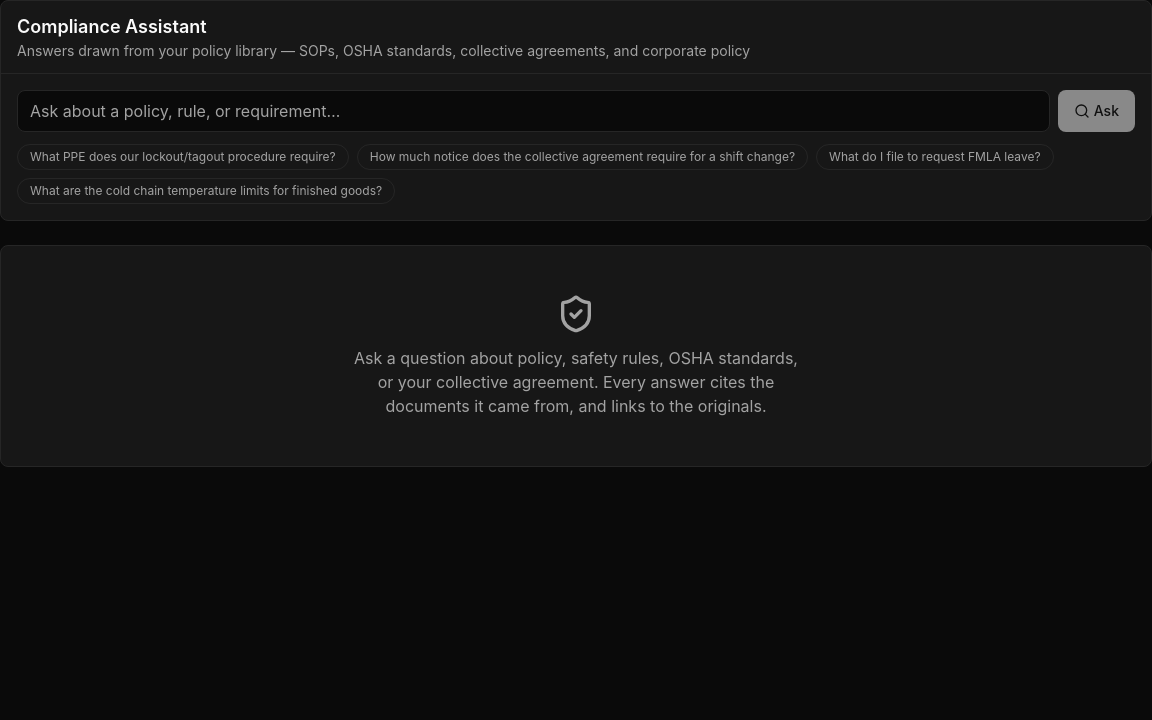
Test case: Compliance Assistant › sources and forms › groups a form separately and badges it
Step 1. Type "lockout procedure" into the field named "Compliance question" → (533, 111), box top-left (17, 90), bottom-right (1050, 132)
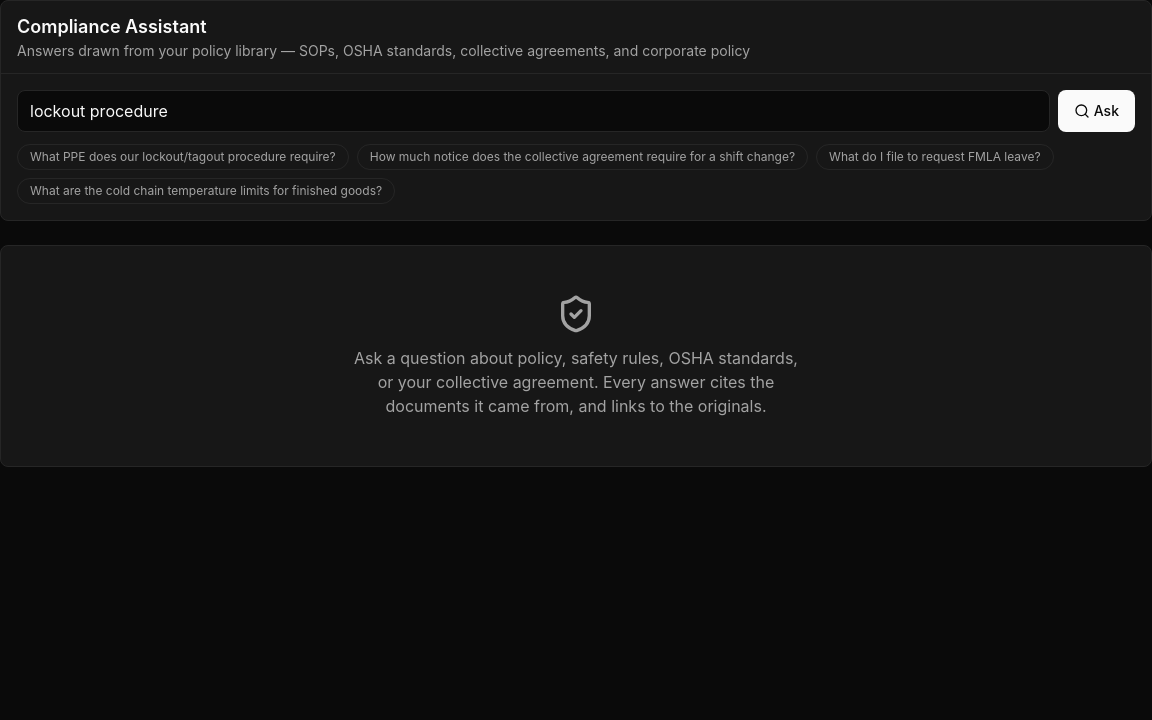
Step 2. Click the button "Ask" → (1096, 111), box top-left (1058, 90), bottom-right (1135, 132)
(page scrolled)
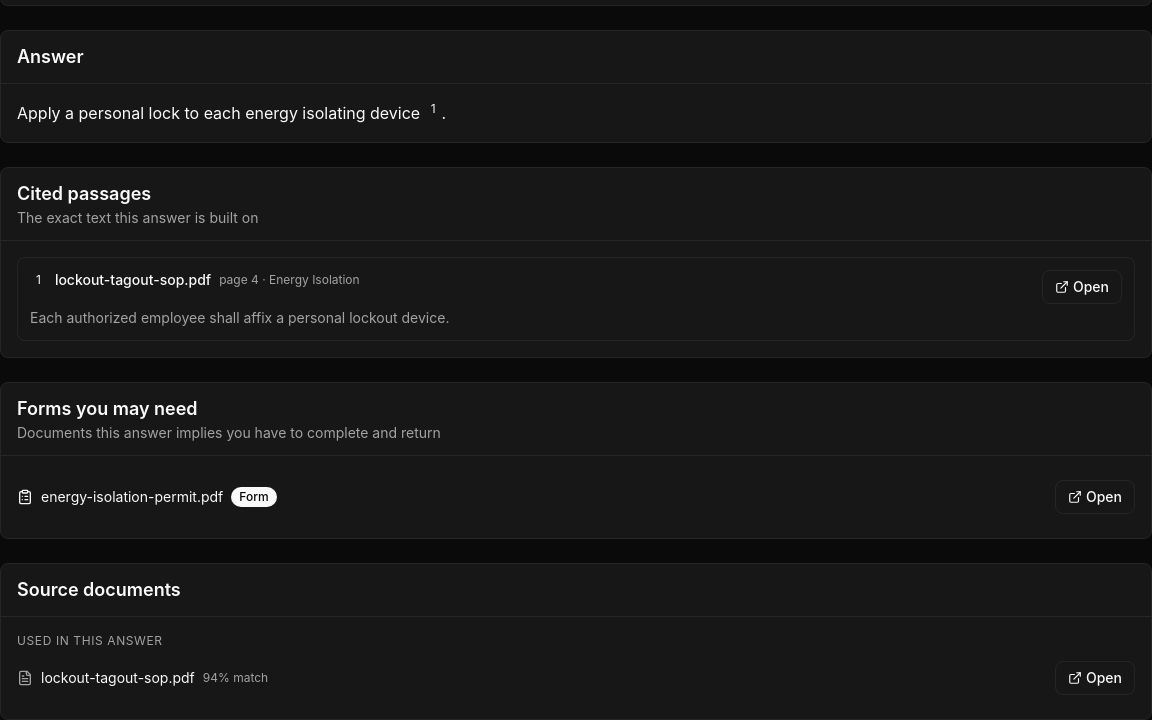
Expected: the heading "Forms you may need" is shown, top-left (17, 398), bottom-right (198, 419)
Expected: the text "energy-isolation-permit.pdf" is shown, top-left (41, 487), bottom-right (223, 507)
Expected: the text "Form" is shown, top-left (231, 487), bottom-right (277, 507)
